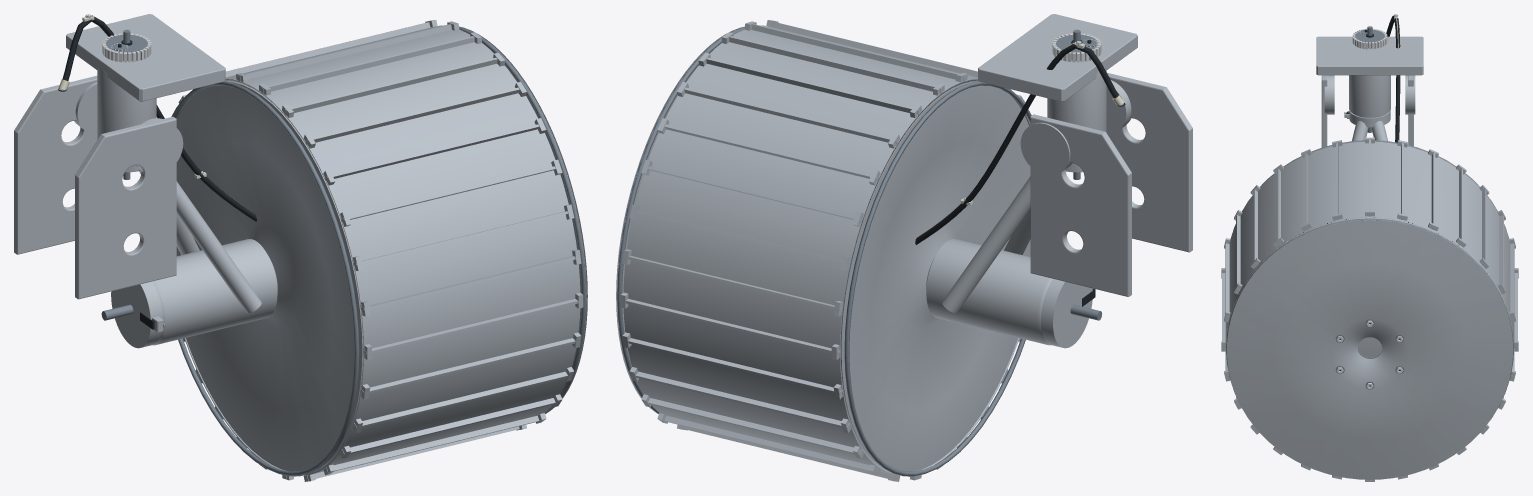
The model's file is mer-wheels.glb.
The picture shows the model from 3 angles, left to right: view 1: azimuth 30°, elevation 25°; view 2: azimuth 150°, elevation 25°; view 3: azimuth 270°, elevation 25°; orthographic projection. The views are drawn at different scales.
Parts seen in each view (by area): view 1: WHEEL_TREAD_Machined_aluminium (×2), WHEEL_INNER_DISK_Machined_aluminium, SUSPENSION_MOUNT_Machined_aluminium, DRIVE_MOTOR_REMOVABLE_SHELL_Machined_aluminium, WHEEL_INNER_DISK_Steel_fixings, DRIVE_MOTOR_ROTOR_Machined_aluminium, WHEEL_COVER_Steel_fixings, STEERING_MOTOR_REMOVABLE_SHELL_Machined_aluminium, MOTOR_HARNESS_Cable_insulation, WHEEL_COVER_Machined_aluminium, DRIVE_MOTOR_FIXED_SHELL_Machined_aluminium, STEERING_MOTOR_FIXED_SHELL_Machined_aluminium (+1 smaller); view 2: WHEEL_TREAD_Machined_aluminium (×2), WHEEL_INNER_DISK_Machined_aluminium, SUSPENSION_MOUNT_Machined_aluminium, DRIVE_MOTOR_FIXED_SHELL_Machined_aluminium, WHEEL_INNER_DISK_Steel_fixings, DRIVE_MOTOR_ROTOR_Machined_aluminium, STEERING_MOTOR_FIXED_SHELL_Machined_aluminium, WHEEL_COVER_Steel_fixings, MOTOR_HARNESS_Cable_insulation, WHEEL_COVER_Machined_aluminium; view 3: WHEEL_COVER_Machined_aluminium, WHEEL_TREAD_Machined_aluminium (×2), SUSPENSION_MOUNT_Machined_aluminium, STEERING_MOTOR_FIXED_SHELL_Machined_aluminium, WHEEL_COVER_Steel_fixings, MOTOR_HARNESS_Cable_insulation, STEERING_MOTOR_REMOVABLE_SHELL_Machined_aluminium, WHEEL_INNER_DISK_Machined_aluminium, WHEEL_INNER_DISK_Steel_fixings, STEERING_MOTOR_GEARS_Machined_edge, STEERING_MOTOR_ROTOR_Machined_aluminium.
Boxes of the visible parts, left/top/right/bottom form: WHEEL_TREAD_Machined_aluminium (×2): left=176, top=20, right=583, bottom=481; WHEEL_INNER_DISK_Machined_aluminium: left=176, top=80, right=362, bottom=471; SUSPENSION_MOUNT_Machined_aluminium: left=14, top=14, right=261, bottom=313; DRIVE_MOTOR_REMOVABLE_SHELL_Machined_aluminium: left=152, top=250, right=277, bottom=345; WHEEL_INNER_DISK_Steel_fixings: left=171, top=81, right=359, bottom=476; DRIVE_MOTOR_ROTOR_Machined_aluminium: left=111, top=281, right=162, bottom=348; WHEEL_COVER_Steel_fixings: left=439, top=25, right=586, bottom=413; STEERING_MOTOR_REMOVABLE_SHELL_Machined_aluminium: left=109, top=79, right=156, bottom=131; MOTOR_HARNESS_Cable_insulation: left=62, top=15, right=256, bottom=221; WHEEL_COVER_Machined_aluminium: left=459, top=26, right=587, bottom=411; DRIVE_MOTOR_FIXED_SHELL_Machined_aluminium: left=152, top=239, right=264, bottom=345; STEERING_MOTOR_FIXED_SHELL_Machined_aluminium: left=97, top=67, right=108, bottom=139; WHEEL_TREAD_Machined_aluminium (×2): left=620, top=20, right=1030, bottom=481; WHEEL_INNER_DISK_Machined_aluminium: left=840, top=80, right=1030, bottom=471; SUSPENSION_MOUNT_Machined_aluminium: left=942, top=14, right=1192, bottom=313; DRIVE_MOTOR_FIXED_SHELL_Machined_aluminium: left=926, top=239, right=1052, bottom=345; WHEEL_INNER_DISK_Steel_fixings: left=844, top=81, right=1031, bottom=476; DRIVE_MOTOR_ROTOR_Machined_aluminium: left=1041, top=279, right=1092, bottom=348; STEERING_MOTOR_FIXED_SHELL_Machined_aluminium: left=1047, top=67, right=1106, bottom=131; WHEEL_COVER_Steel_fixings: left=617, top=25, right=764, bottom=413; MOTOR_HARNESS_Cable_insulation: left=915, top=42, right=1118, bottom=244; WHEEL_COVER_Machined_aluminium: left=616, top=26, right=744, bottom=411; WHEEL_COVER_Machined_aluminium: left=1227, top=220, right=1512, bottom=479; WHEEL_TREAD_Machined_aluminium (×2): left=1221, top=137, right=1518, bottom=481; SUSPENSION_MOUNT_Machined_aluminium: left=1316, top=36, right=1423, bottom=147; STEERING_MOTOR_FIXED_SHELL_Machined_aluminium: left=1362, top=75, right=1390, bottom=117; WHEEL_COVER_Steel_fixings: left=1226, top=219, right=1513, bottom=405; MOTOR_HARNESS_Cable_insulation: left=1386, top=15, right=1400, bottom=142; STEERING_MOTOR_REMOVABLE_SHELL_Machined_aluminium: left=1349, top=75, right=1361, bottom=116; WHEEL_INNER_DISK_Machined_aluminium: left=1298, top=218, right=1441, bottom=357; WHEEL_INNER_DISK_Steel_fixings: left=1233, top=140, right=1506, bottom=230; STEERING_MOTOR_GEARS_Machined_edge: left=1352, top=28, right=1387, bottom=49; STEERING_MOTOR_ROTOR_Machined_aluminium: left=1349, top=110, right=1390, bottom=127.
Bounding box in the file's own units: 0.3378 × 0.3365 × 0.268.
